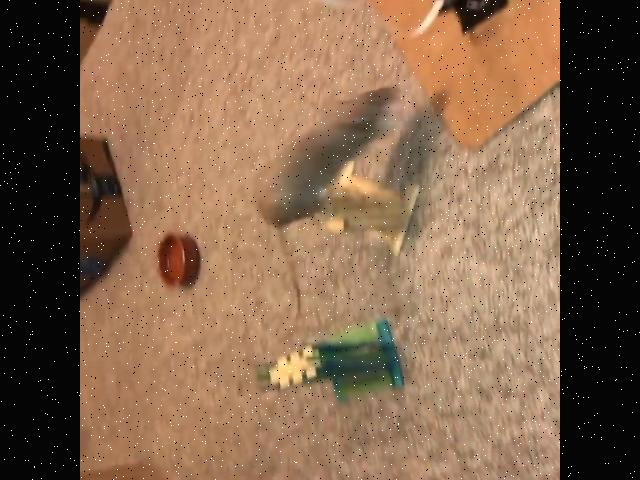Tikus: (252, 87, 396, 316)
